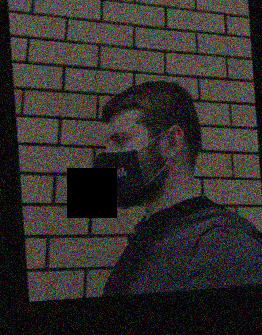with_mask: (94, 126, 146, 209)
